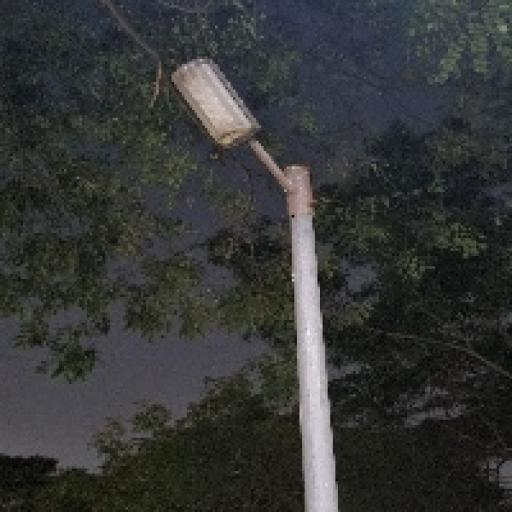Not Working: (157, 49, 284, 167)
